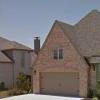Chimney: (26, 27, 45, 58)
